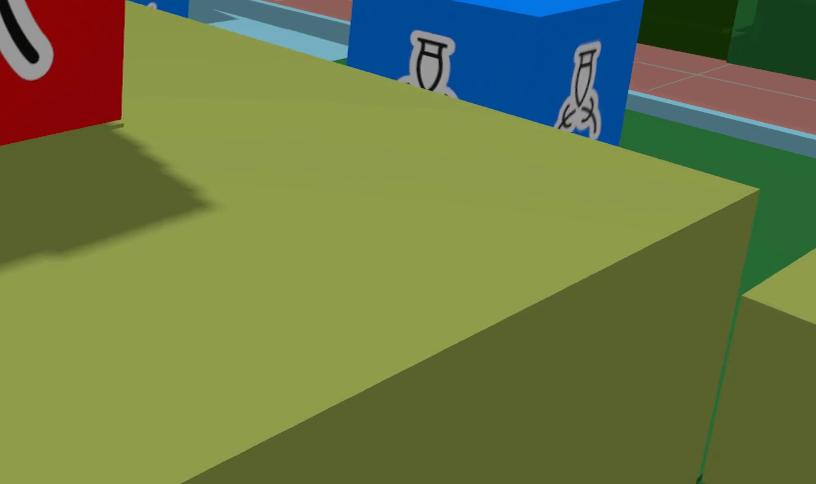KFS_FAKE: (0, 0, 128, 146), (0, 0, 53, 80)
KFS_REAL: (348, 0, 643, 145), (557, 41, 601, 138), (400, 30, 455, 96)
